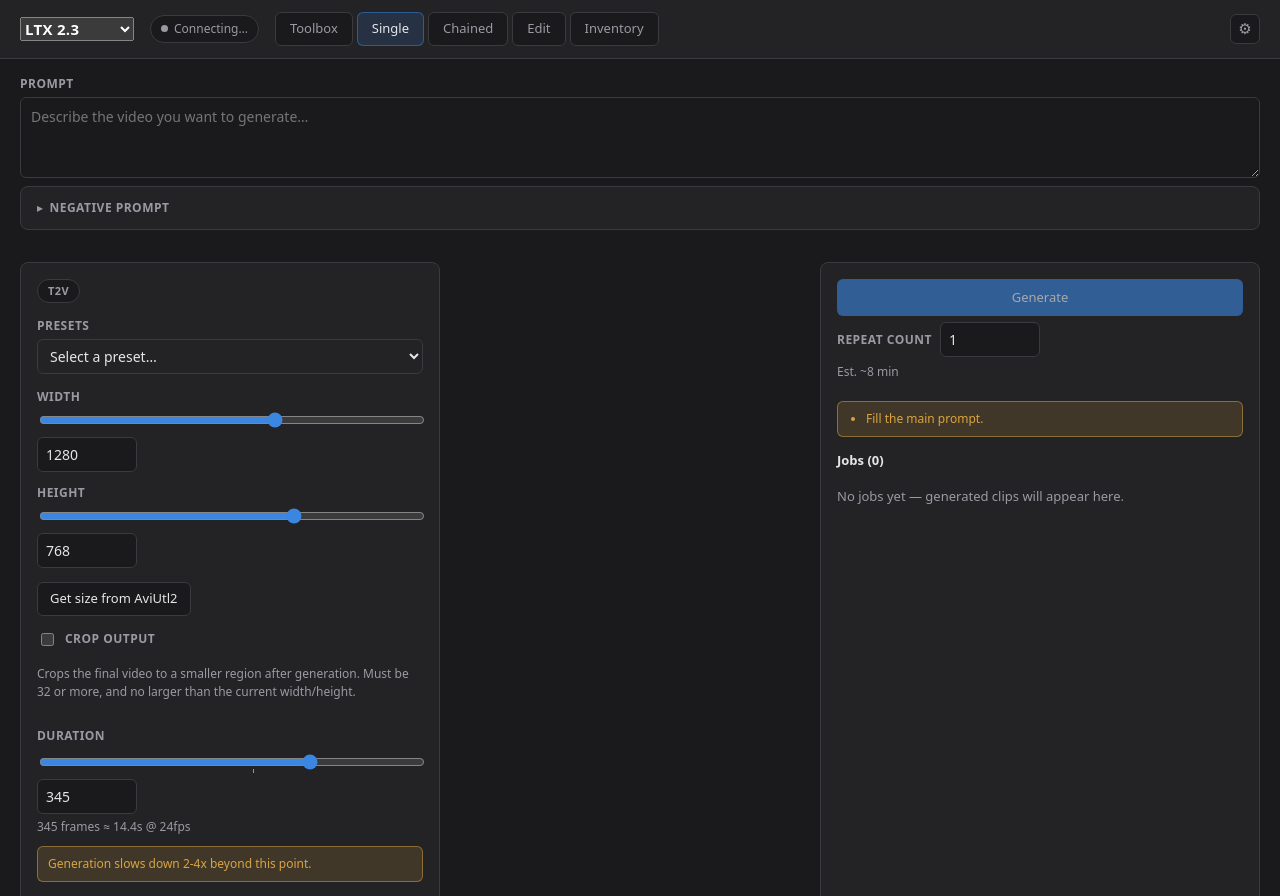
App / Edit tab › goes back to Create with its form state intact (Edit is always-mounted like the rest)
This screenshot has width=1280, height=896.
Check: the button "Generate" is shown, box [837,278,1243,316]
Click the tab "Edit" at (539, 29), box [512,12,566,46]
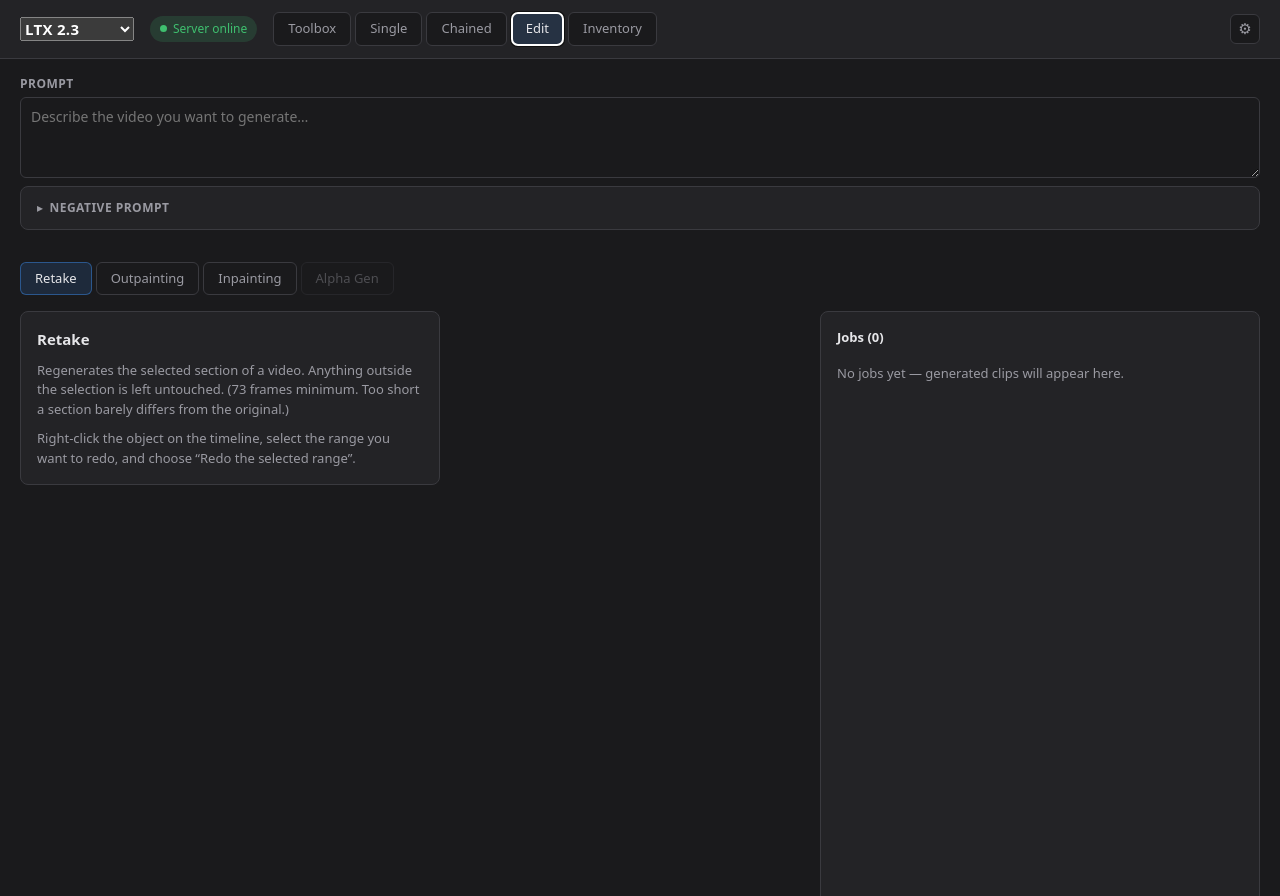
Click the tab "Single" at (389, 29), box [355,12,422,46]
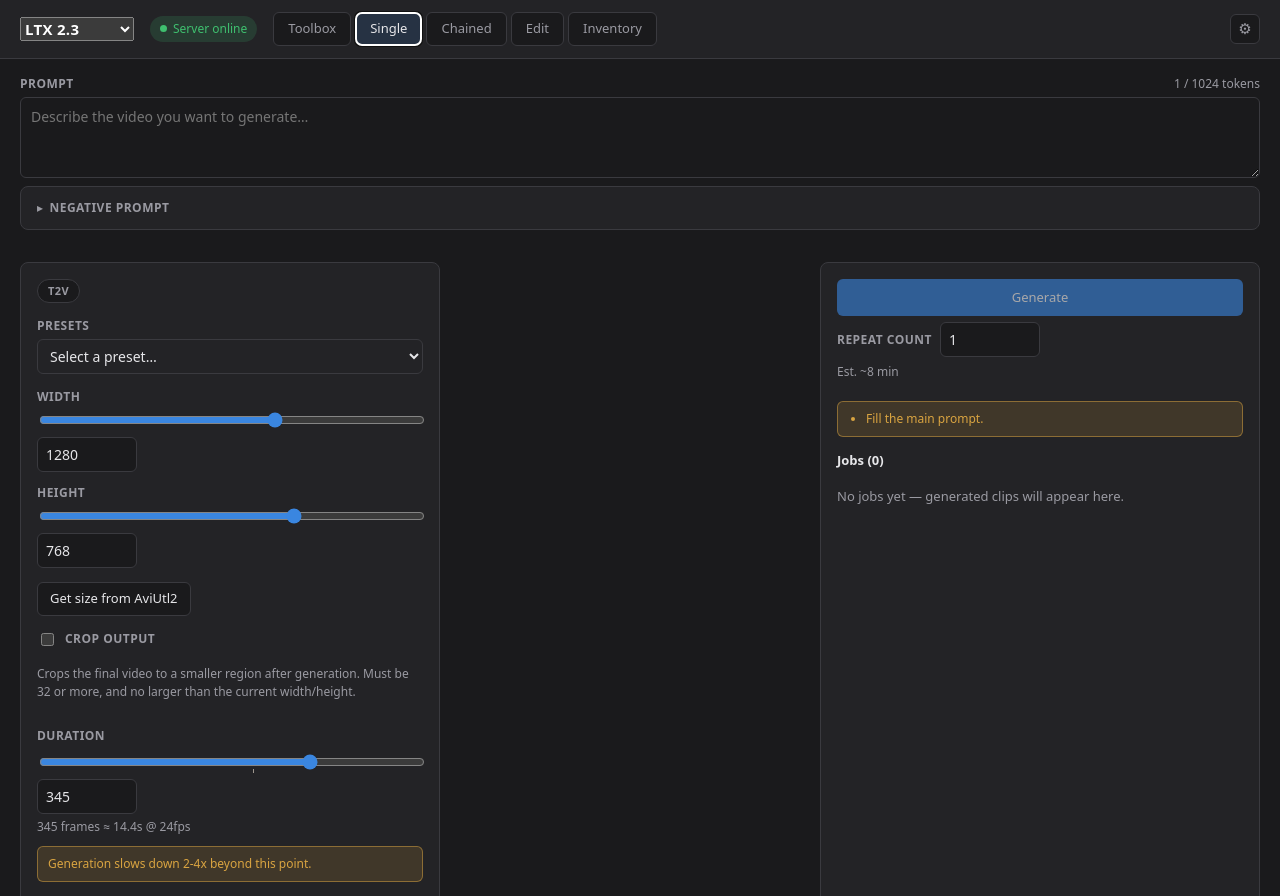
Check: the button "Generate" is shown, box [837,278,1243,316]
Check: the tab "Retake" is gone
